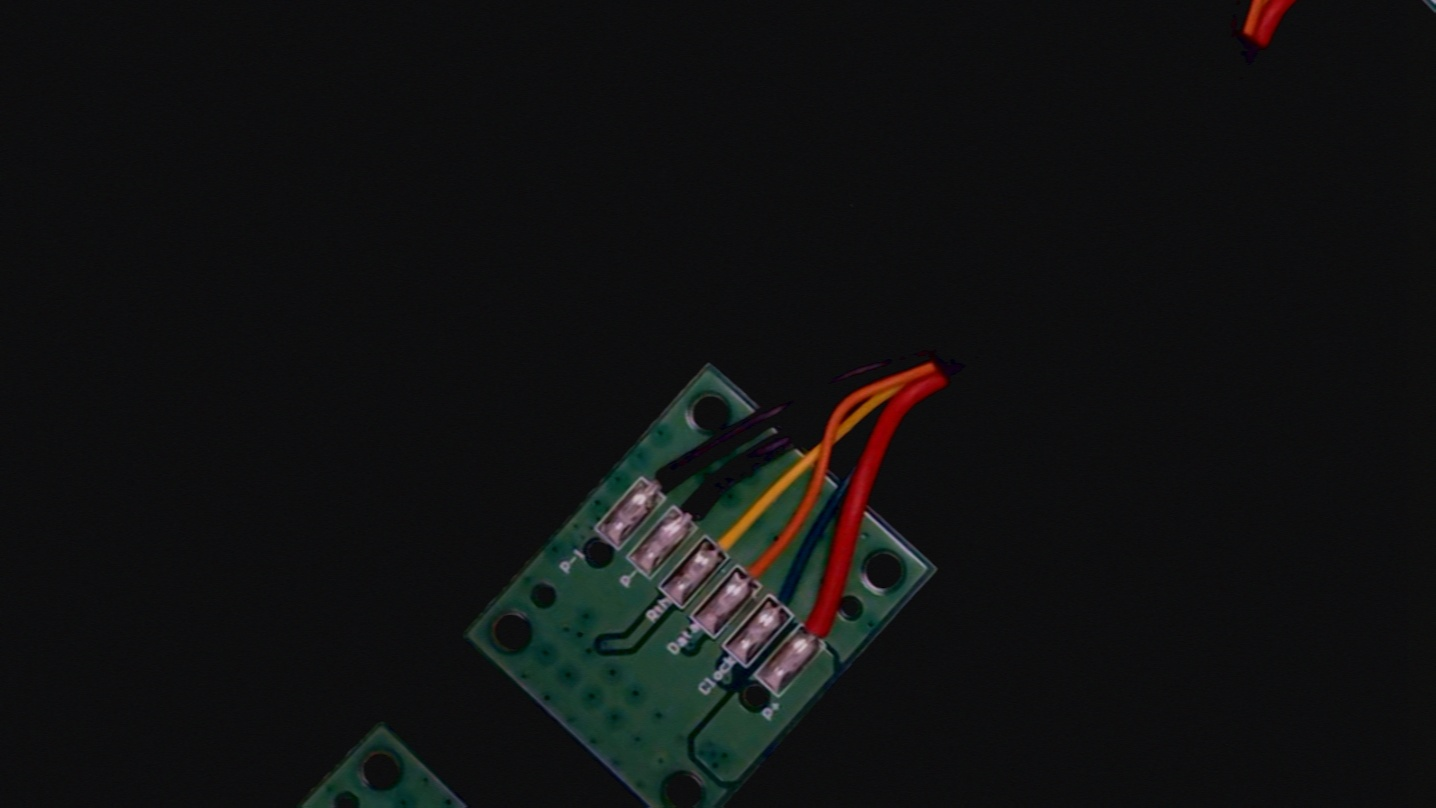Black: (661, 463, 740, 544)
Black1: (627, 432, 706, 512)
Green: (756, 560, 825, 631)
Orange: (726, 527, 798, 601)
Red: (789, 587, 860, 660)
Yellow: (693, 494, 770, 572)
